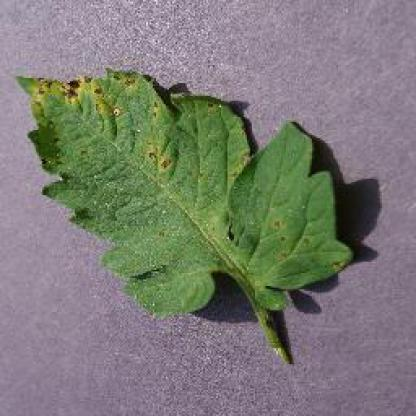bad leaf: (26, 68, 186, 126), (138, 138, 182, 178), (257, 212, 293, 256), (333, 251, 346, 277), (236, 149, 249, 168), (300, 236, 314, 252)
